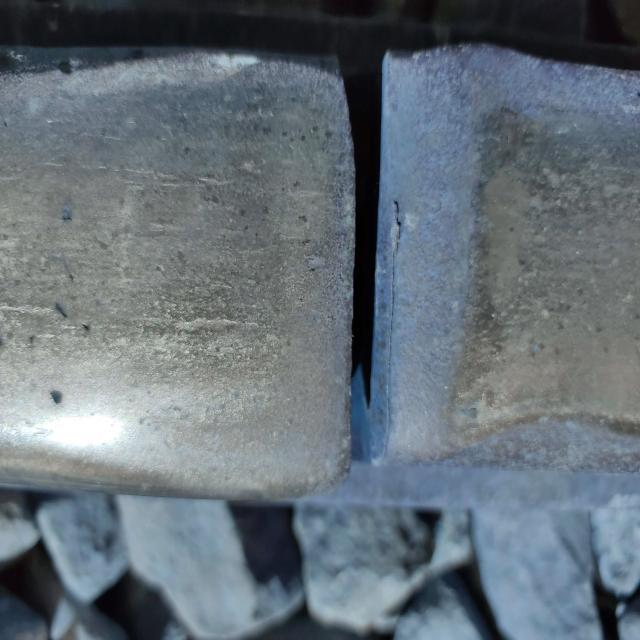broken_rail_low: (312, 44, 444, 495)
